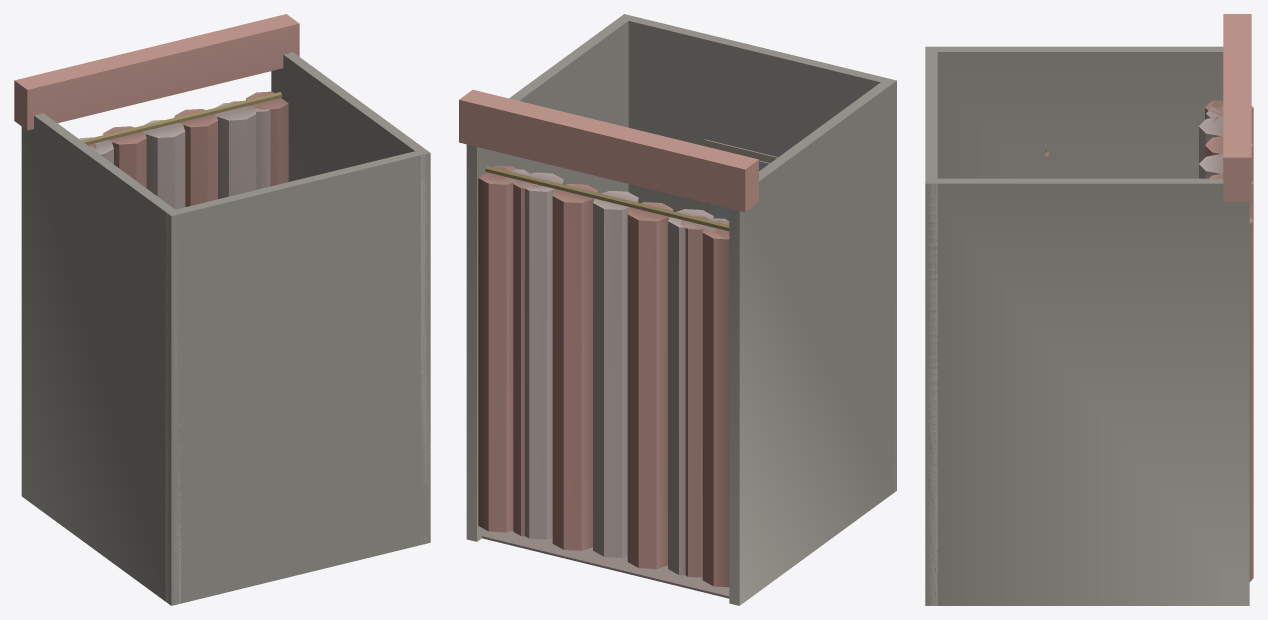
Rendered from wear_fitting_room.glb.
The picture shows the model from 3 angles, left to right: view 1: azimuth 30°, elevation 25°; view 2: azimuth 150°, elevation 25°; view 3: azimuth 270°, elevation 25°; orthographic projection. The views are drawn at different scales.
Parts seen in each view (by area): view 1: wear.fitting_room, curtain_closed, curtain_open; view 2: wear.fitting_room, curtain_closed, curtain_open; view 3: wear.fitting_room, curtain_closed.
Boxes of the visible parts, x1,y1,x2,y2 form: wear.fitting_room: (14, 14, 430, 605); curtain_closed: (79, 91, 288, 209); curtain_open: (87, 93, 283, 189); wear.fitting_room: (459, 14, 896, 605); curtain_closed: (478, 165, 729, 587); curtain_open: (481, 167, 729, 577); wear.fitting_room: (925, 14, 1251, 605); curtain_closed: (1199, 100, 1253, 581).
Bounding box in the file's own units: 1.68 × 2.46 × 1.62.
